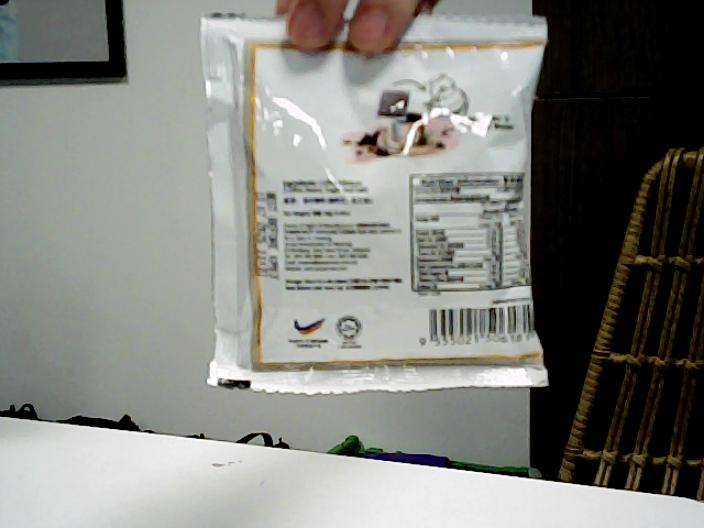Adult_Milk_0-99g_Halal_NonHealthy: (223, 60, 543, 387)
